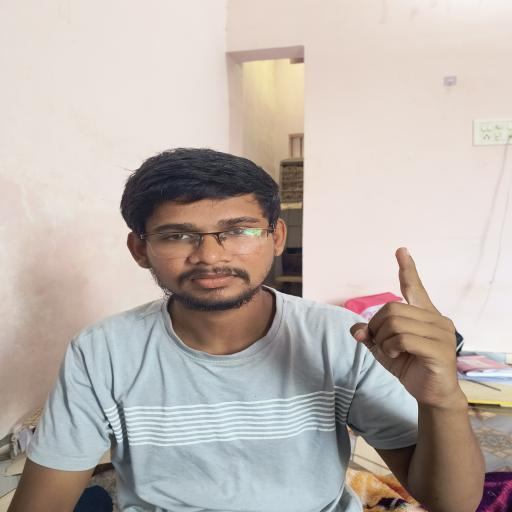What: (327, 234, 491, 418)
